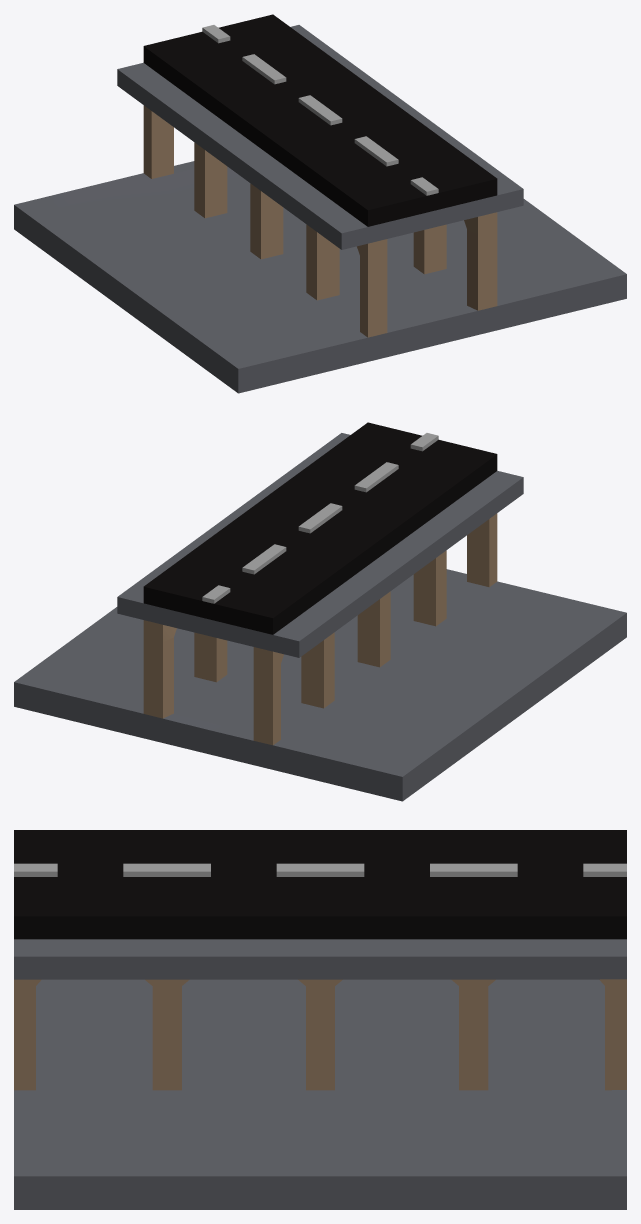
File: road1.obj
3 views of the same model, one above another, from view 1: azimuth 30°, elevation 25°; view 2: azimuth 150°, elevation 25°; view 3: azimuth 270°, elevation 25° (orthographic). The views are drawn at different scales.
Parts seen in each view (by area): view 1: Street_Bridge_Cube.002; view 2: Street_Bridge_Cube.002; view 3: Street_Bridge_Cube.002.
Boxes of the visible parts, x1,y1,x2,y2 form: Street_Bridge_Cube.002: (14, 14, 626, 393); Street_Bridge_Cube.002: (14, 422, 626, 801); Street_Bridge_Cube.002: (14, 830, 626, 1209).
Bounding box in the file's own units: 2 × 0.7659 × 2.
